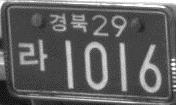0: (82, 40, 109, 90)
1: (116, 40, 130, 93), (63, 38, 75, 92)
2: (90, 13, 110, 37)
6: (137, 43, 163, 94)
9: (109, 14, 127, 38)
경북_O: (48, 12, 88, 33)
라: (16, 38, 48, 72)
